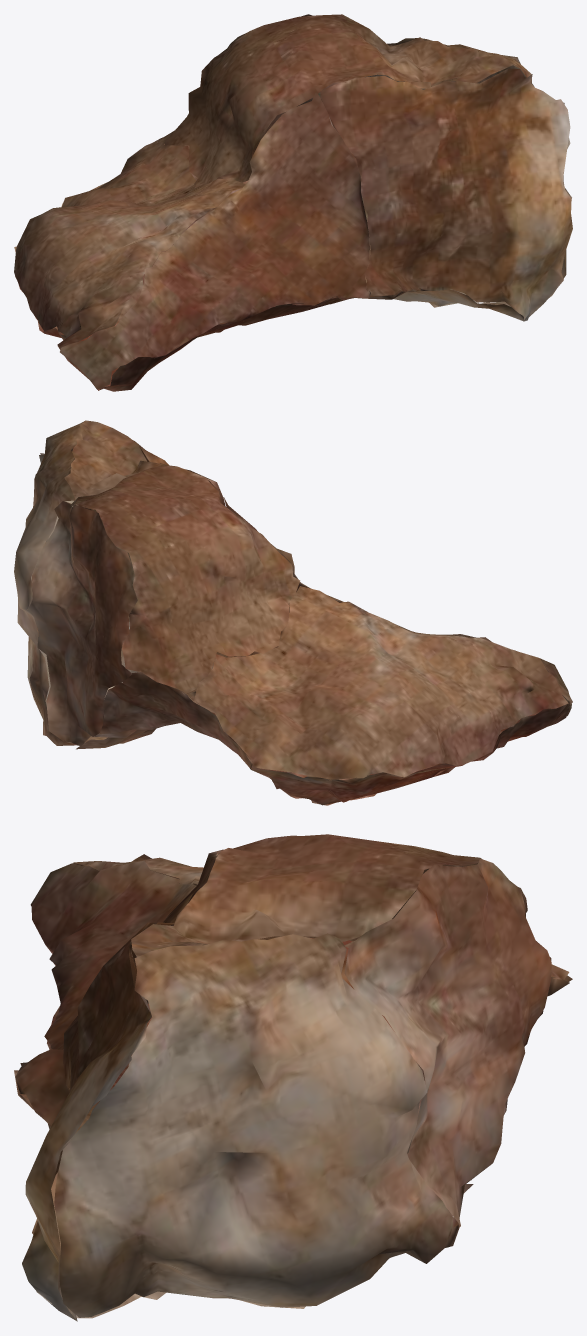
Rendered from kf_stone.glb.
The picture shows the model from 3 angles, top to bottom: view 1: azimuth 30°, elevation 25°; view 2: azimuth 150°, elevation 25°; view 3: azimuth 270°, elevation 25°; orthographic projection. The views are drawn at different scales.
Visible parts, largest first — view 1: stone_01; view 2: stone_01; view 3: stone_01.
Part boxes in pixels (x1,y1,x2,y2): stone_01: [14, 14, 572, 391]; stone_01: [14, 420, 572, 805]; stone_01: [14, 834, 572, 1321].
Size of what is drawn, in the model's own units: 0.1469 by 0.0717 by 0.0899.
1 material, 1 textured.
